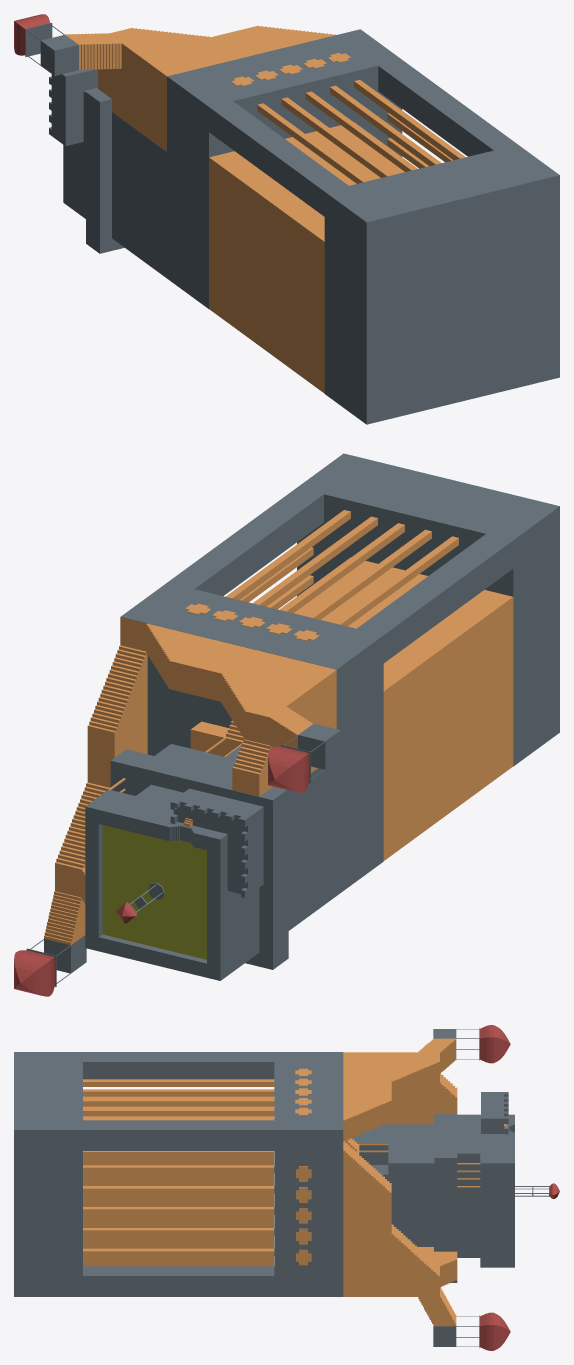
Rendered from lent.dae.
3 renders of one model, top to bottom at view 1: azimuth 30°, elevation 25°; view 2: azimuth 150°, elevation 25°; view 3: azimuth 270°, elevation 25°, orthographic. The views are drawn at different scales.
Visible parts, largest first — view 1: Cube_022; view 2: Cube_022; view 3: Cube_022.
Boxes of the visible parts, x1,y1,x2,y2 form: Cube_022: (14,14,559,424); Cube_022: (14,453,559,996); Cube_022: (14,1025,559,1350).
Size of the model in its own units: 21.3 by 47.41 by 21.29.
